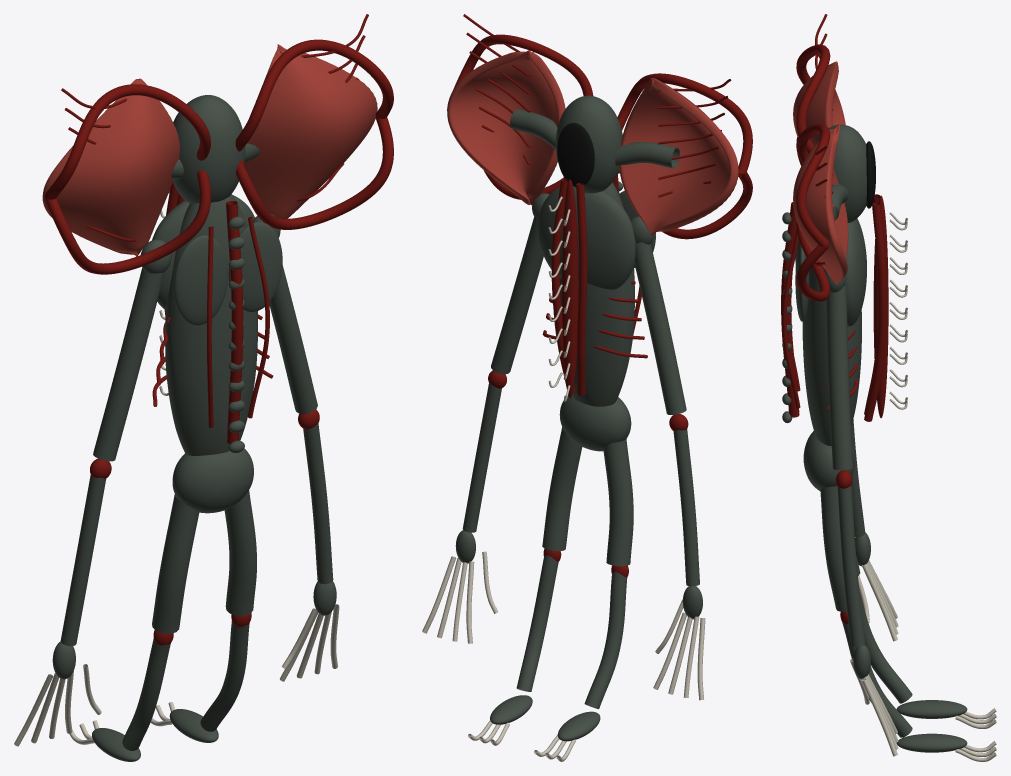
Rendered from sonar_blender_v1.glb.
3 renders of one model, left to right at view 1: azimuth 30°, elevation 25°; view 2: azimuth 150°, elevation 25°; view 3: azimuth 270°, elevation 25°, orthographic. The views are drawn at different scales.
Visible parts, largest first — view 1: left_giant_sculpted_ear, right_giant_sculpted_ear, long_sunken_torso, left_giant_sculpted_ear_thick_outer_rim, right_giant_sculpted_ear_thick_outer_rim, skull_smooth_eyeless_head, left_long_upper_arm, narrow_pelvis, left_sinewy_thigh, left_back_scapula, right_sinewy_thigh, right_long_upper_arm (+13 smaller); view 2: left_giant_sculpted_ear, right_giant_sculpted_ear, long_sunken_torso, raised_rib_chest_plate, left_long_upper_arm, left_giant_sculpted_ear_thick_outer_rim, skull_smooth_eyeless_head, left_sinewy_thigh, right_long_upper_arm, narrow_pelvis, right_sinewy_thigh, deep_red_open_mouth_interior (+12 smaller); view 3: long_sunken_torso, right_giant_sculpted_ear, right_long_upper_arm, right_giant_sculpted_ear_thick_outer_rim, skull_smooth_eyeless_head, right_floor_reaching_forearm, right_sinewy_thigh, right_torn_vertical_mouth_lip, left_giant_sculpted_ear, raised_rib_chest_plate, left_giant_sculpted_ear_thick_outer_rim, deep_red_open_mouth_interior (+15 smaller).
Boxes of the visible parts, x1,y1,x2,y2 form: left_giant_sculpted_ear: [42, 78, 179, 256]; right_giant_sculpted_ear: [244, 44, 377, 218]; long_sunken_torso: [165, 194, 257, 455]; left_giant_sculpted_ear_thick_outer_rim: [45, 84, 210, 274]; right_giant_sculpted_ear_thick_outer_rim: [235, 39, 393, 229]; skull_smooth_eyeless_head: [173, 95, 245, 203]; left_long_upper_arm: [93, 268, 164, 461]; narrow_pelvis: [172, 448, 253, 513]; left_sinewy_thigh: [152, 494, 199, 633]; left_back_scapula: [174, 235, 228, 325]; right_sinewy_thigh: [224, 490, 256, 616]; right_long_upper_arm: [269, 265, 317, 414]; left_giant_sculpted_ear: [619, 78, 738, 235]; right_giant_sculpted_ear: [447, 50, 565, 205]; long_sunken_torso: [553, 182, 634, 406]; raised_rib_chest_plate: [537, 187, 635, 289]; left_long_upper_arm: [634, 242, 686, 414]; left_giant_sculpted_ear_thick_outer_rim: [617, 73, 752, 239]; skull_smooth_eyeless_head: [555, 95, 622, 193]; left_sinewy_thigh: [603, 439, 633, 566]; right_long_upper_arm: [491, 216, 543, 374]; narrow_pelvis: [559, 395, 631, 451]; right_sinewy_thigh: [542, 427, 582, 551]; deep_red_open_mouth_interior: [561, 179, 578, 397]; long_sunken_torso: [802, 265, 861, 445]; right_giant_sculpted_ear: [793, 124, 848, 284]; right_long_upper_arm: [826, 285, 853, 469]; right_giant_sculpted_ear_thick_outer_rim: [796, 123, 830, 301]; skull_smooth_eyeless_head: [816, 124, 866, 222]; right_floor_reaching_forearm: [837, 485, 865, 646]; right_sinewy_thigh: [820, 486, 847, 611]; right_torn_vertical_mouth_lip: [864, 202, 886, 421]; left_giant_sculpted_ear: [793, 61, 845, 145]; raised_rib_chest_plate: [844, 218, 866, 326]; left_giant_sculpted_ear_thick_outer_rim: [796, 44, 830, 165]; deep_red_open_mouth_interior: [873, 195, 888, 417].
Bounding box in the file's own units: 1.75 × 3.65 × 1.08.
